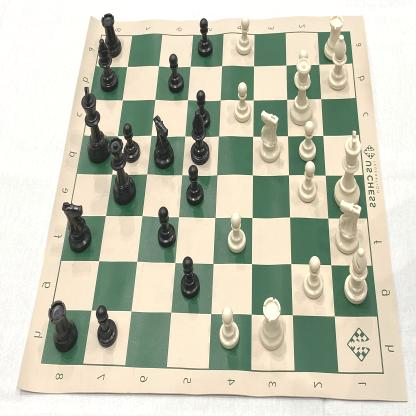black-bishop: (190, 110, 209, 166)
black-king: (79, 84, 111, 165)
black-knight: (62, 199, 91, 253), (151, 114, 176, 170), (297, 161, 318, 204), (233, 80, 252, 125)
black-pawn: (94, 304, 118, 350), (179, 253, 201, 303), (157, 204, 176, 250), (167, 51, 186, 96), (185, 164, 204, 208), (123, 122, 141, 164), (196, 16, 214, 58), (194, 88, 211, 131)
black-queen: (109, 137, 136, 207), (96, 38, 119, 93)
black-rook: (47, 298, 77, 354), (100, 12, 122, 57)
white-bishop: (343, 248, 368, 306), (327, 34, 350, 93)
white-king: (332, 128, 363, 209)
white-knight: (335, 200, 363, 255), (258, 110, 282, 166)
white-pawn: (218, 304, 241, 352), (302, 256, 324, 301), (227, 210, 247, 256), (298, 119, 316, 162), (234, 14, 252, 57), (294, 48, 310, 92)
white-queen: (288, 58, 316, 126)
white-rook: (257, 295, 285, 353), (323, 12, 344, 62)
